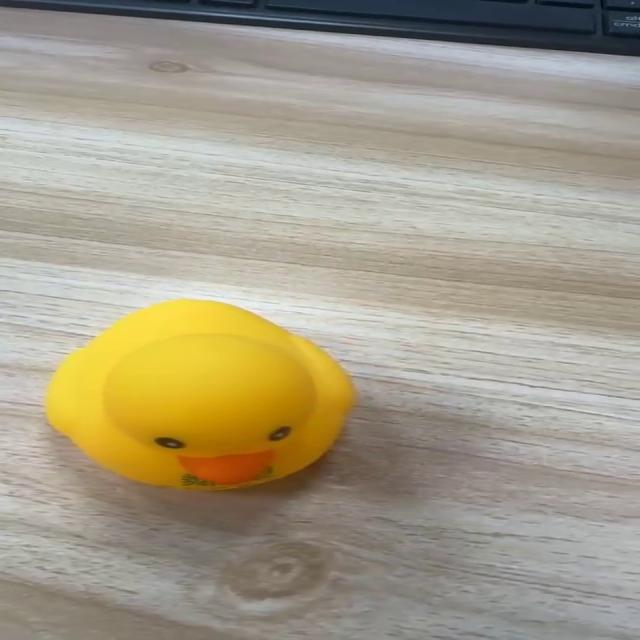yellow_duck: (43, 297, 358, 491)
